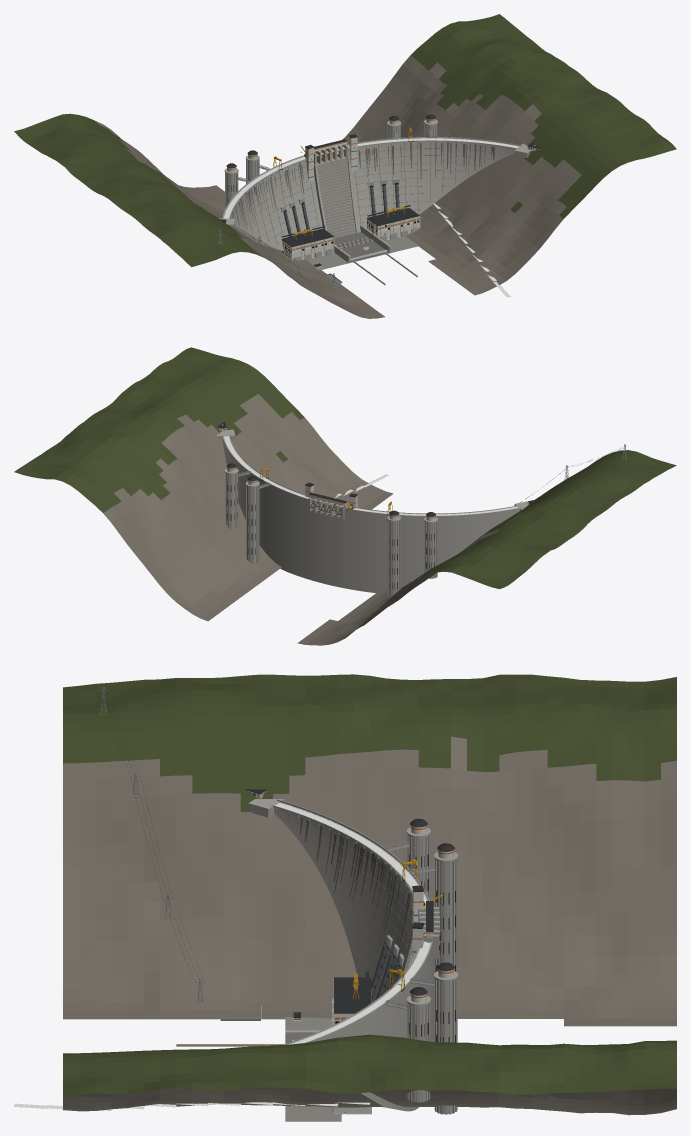
The model's file is great-dam.glb.
3 views of the same model, one above another, from view 1: azimuth 30°, elevation 25°; view 2: azimuth 150°, elevation 25°; view 3: azimuth 270°, elevation 25° (orthographic). The views are drawn at different scales.
Parts seen in each view (by area): view 1: C0_0_lod0, C0_-1_lod0, C-1_-1_lod0, C1_-1_lod0, C-2_-1_lod0; view 2: C0_0_lod0, C1_-1_lod0, C-2_-1_lod0, C1_0_lod0, C-2_0_lod0, C0_-1_lod0, C-1_-1_lod0; view 3: C0_0_lod0, C-1_-1_lod0, C-2_-1_lod0, C0_-1_lod0, C1_-1_lod0, C-2_0_lod0, C1_0_lod0, C-3_-2_lod0, C-1_-2_lod0.
Boxes of the visible parts, x1,y1,x2,y2 form: C0_0_lod0: [14, 14, 676, 318]; C0_-1_lod0: [307, 134, 455, 270]; C-1_-1_lod0: [251, 144, 355, 262]; C1_-1_lod0: [355, 114, 498, 218]; C-2_-1_lod0: [224, 163, 312, 257]; C0_0_lod0: [14, 347, 676, 645]; C1_-1_lod0: [224, 445, 274, 529]; C-2_-1_lod0: [399, 509, 496, 578]; C1_0_lod0: [245, 476, 259, 563]; C-2_0_lod0: [387, 510, 401, 596]; C0_-1_lod0: [266, 482, 347, 515]; C-1_-1_lod0: [327, 493, 399, 519]; C0_0_lod0: [63, 674, 676, 1115]; C-1_-1_lod0: [285, 859, 443, 1043]; C-2_-1_lod0: [297, 815, 437, 976]; C0_-1_lod0: [285, 901, 440, 1121]; C1_-1_lod0: [303, 969, 434, 1106]; C-2_0_lod0: [434, 843, 458, 972]; C1_0_lod0: [434, 962, 458, 1114]; C-3_-2_lod0: [246, 786, 310, 822]; C-1_-2_lod0: [176, 978, 301, 1046].
Size of what is drawn, in the model's own units: 1200 by 281 by 821.
